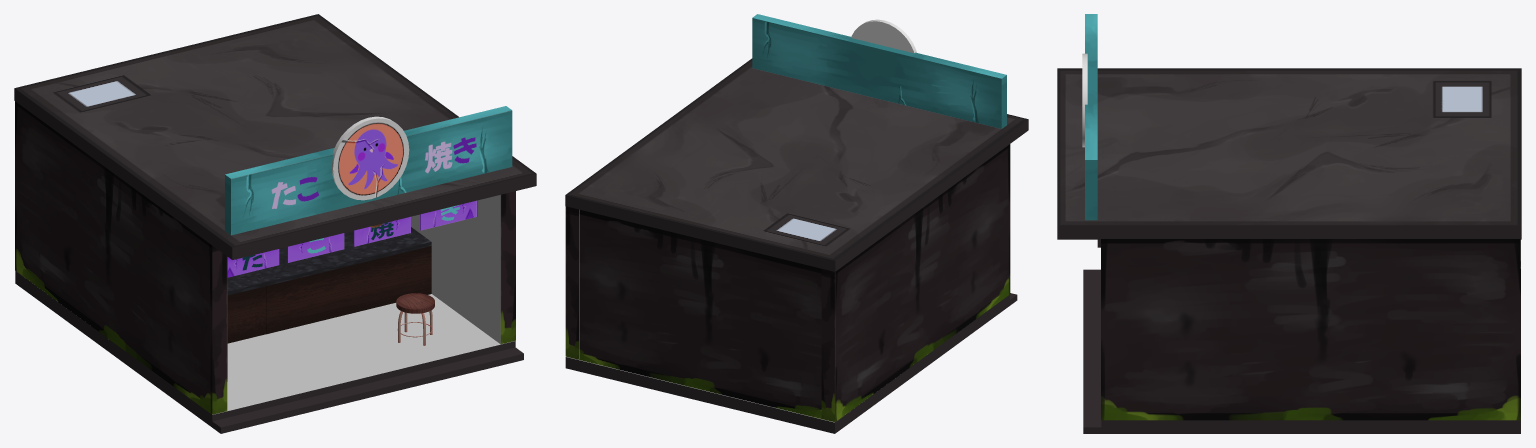
Rendered from Takoyaki_Shop2.fbx.
The picture shows the model from 3 angles, left to right: view 1: azimuth 30°, elevation 25°; view 2: azimuth 150°, elevation 25°; view 3: azimuth 270°, elevation 25°; orthographic projection. The views are drawn at different scales.
Parts seen in each view (by area): view 1: Roof, Wall_SIde.002, Floor/Ground, Roof.001, Cylinder, Wall_SIde.001, Sign, Stool, Name_Curtin.001, Name_Curtin.003, Name_Curtin.002, Name_Curtin; view 2: Roof, Wall_back, Wall_SIde.002, Roof.001, Floor/Ground, Wall_SIde.001, Sign; view 3: Roof, Wall_SIde.001, Floor/Ground, Roof.001.
Boxes of the visible parts, x1,y1,x2,y2 form: Roof: (14, 14, 536, 259); Wall_SIde.002: (15, 101, 227, 414); Floor/Ground: (15, 271, 523, 433); Roof.001: (225, 106, 512, 235); Cylinder: (227, 227, 431, 343); Wall_SIde.001: (411, 191, 515, 344); Sign: (331, 116, 409, 200); Stool: (396, 293, 434, 345); Name_Curtin.001: (287, 233, 344, 262); Name_Curtin.003: (420, 200, 477, 230); Name_Curtin.002: (353, 216, 410, 246); Name_Curtin: (227, 249, 279, 277); Roof: (565, 58, 1028, 271); Wall_back: (579, 209, 842, 422); Wall_SIde.002: (821, 144, 1010, 421); Roof.001: (752, 14, 1006, 128); Floor/Ground: (565, 293, 1017, 433); Wall_SIde.001: (565, 206, 579, 359); Sign: (851, 19, 916, 53); Roof: (1057, 68, 1521, 247); Wall_SIde.001: (1101, 239, 1520, 420); Floor/Ground: (1083, 269, 1520, 433); Roof.001: (1085, 14, 1097, 220).
Bounding box in the file's own units: 522 × 457 × 649.
